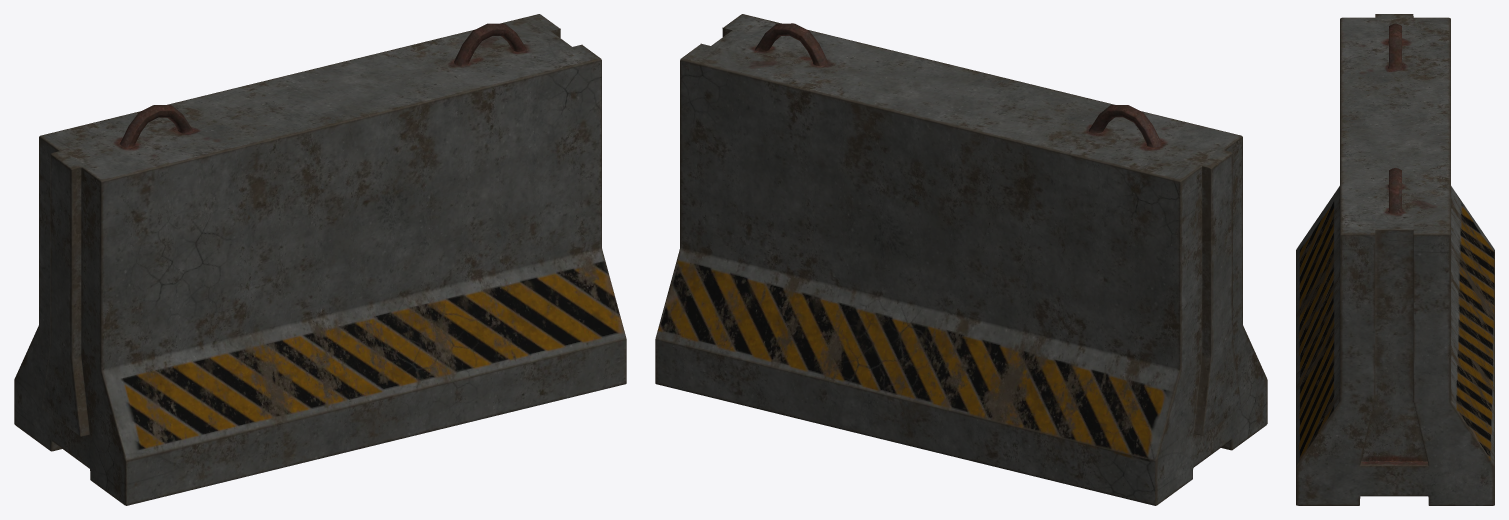
The model's file is concrete-barrier-size-1.glb.
3 renders of one model, left to right at view 1: azimuth 30°, elevation 25°; view 2: azimuth 150°, elevation 25°; view 3: azimuth 270°, elevation 25°, orthographic. The views are drawn at different scales.
Parts seen in each view (by area): view 1: model; view 2: model; view 3: model.
Boxes of the visible parts, x1=… form: model: x1=14, y1=14, x2=626, y2=505; model: x1=655, y1=14, x2=1267, y2=505; model: x1=1296, y1=14, x2=1494, y2=505.
Size of the model in its own units: 1 by 0.6342 by 0.3805.
Materials: 1 (1 with a texture image).
